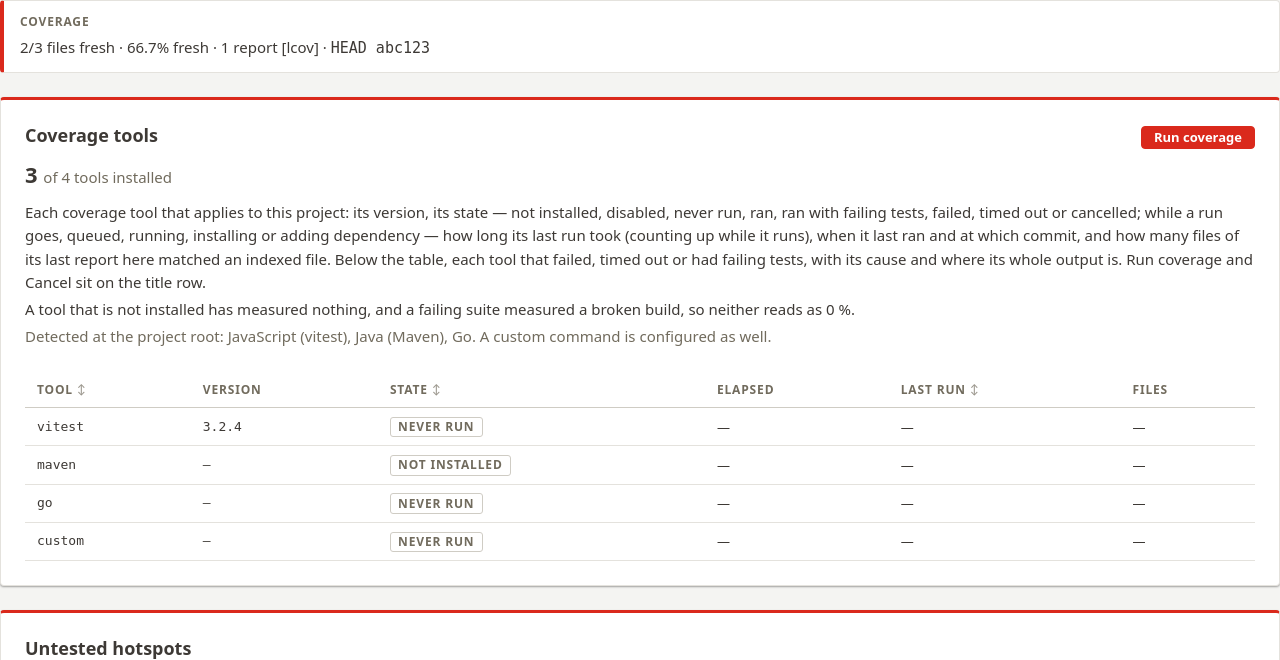
Test: a refused request's alert (review) › is cleared by the next start that is answered
What coordinates should you click on to do the following:
click the button "Run coverage"
I would click on:
 (1198, 137)
Its box is top-left (1141, 126), bottom-right (1255, 149).
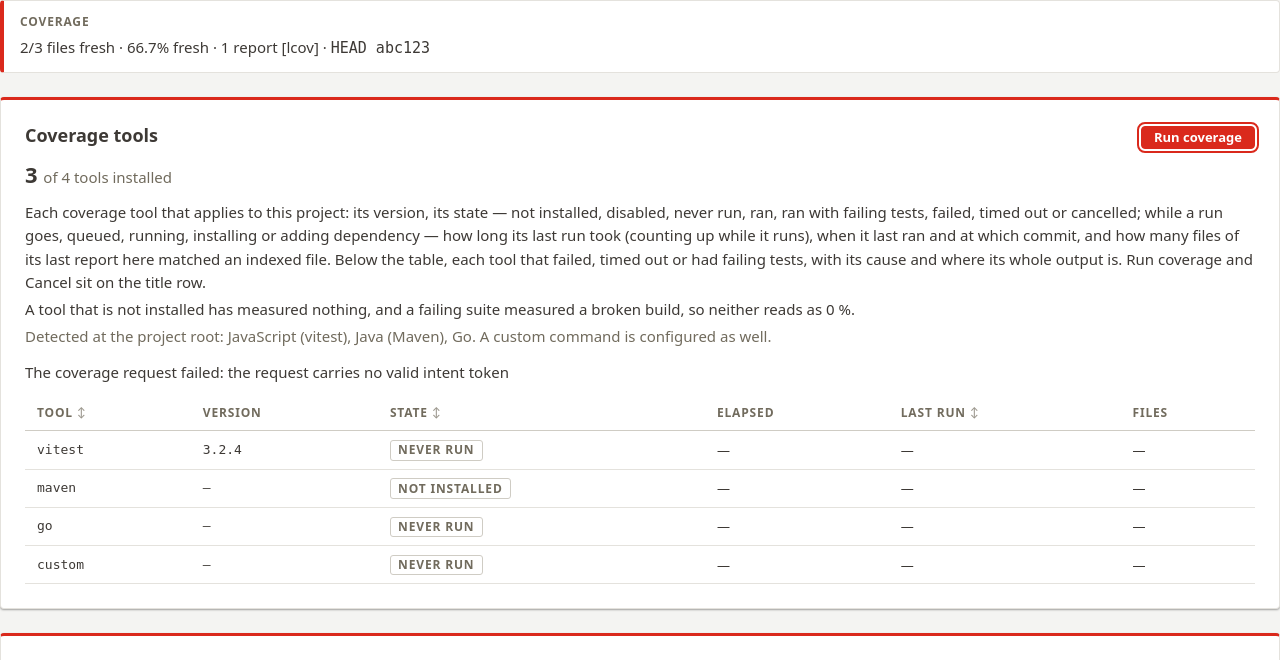
expect the message "The coverage request failed: the request carries no valid intent token" is shown: met, box top-left (25, 362), bottom-right (509, 382)
What coordinates should you click on to do the following:
click the button "Run coverage"
I would click on:
 (1198, 137)
Its box is top-left (1141, 126), bottom-right (1255, 149).
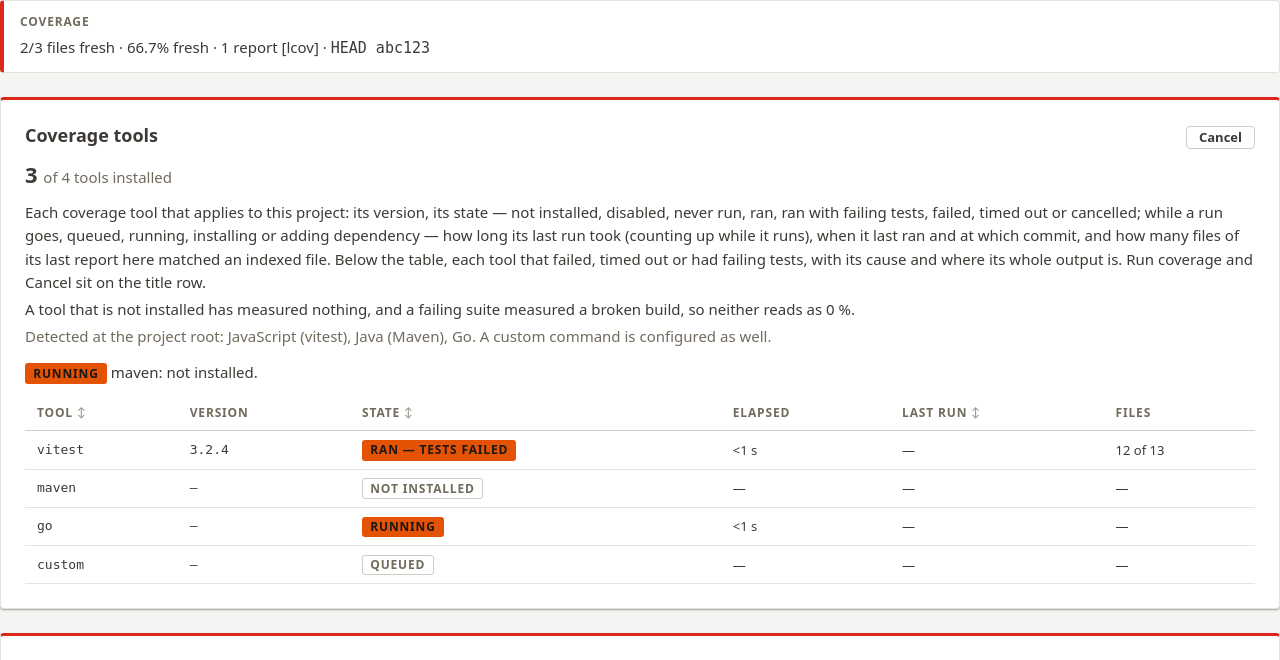
expect the button "Cancel" is shown: met, box top-left (1186, 126), bottom-right (1255, 149)
